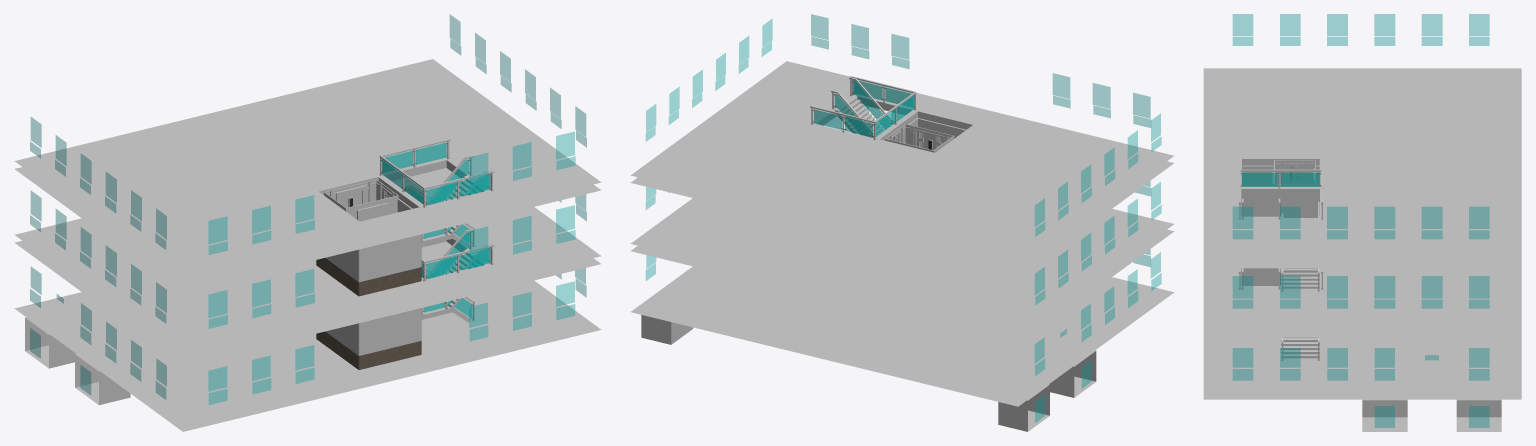
File: Building06_V2_Interior01.fbx
3 renders of one model, left to right at view 1: azimuth 30°, elevation 25°; view 2: azimuth 150°, elevation 25°; view 3: azimuth 270°, elevation 25°, orthographic. The views are drawn at different scales.
Visible parts, largest first — view 1: Building06_V2_Interior01; view 2: Building06_V2_Interior01; view 3: Building06_V2_Interior01.
Part boxes in pixels (x1,y1,x2,y2): Building06_V2_Interior01: (14,14,601,431); Building06_V2_Interior01: (630,14,1174,431); Building06_V2_Interior01: (1203,14,1521,431).
Bounding box in the file's own units: 2421 × 1318 × 1683.
